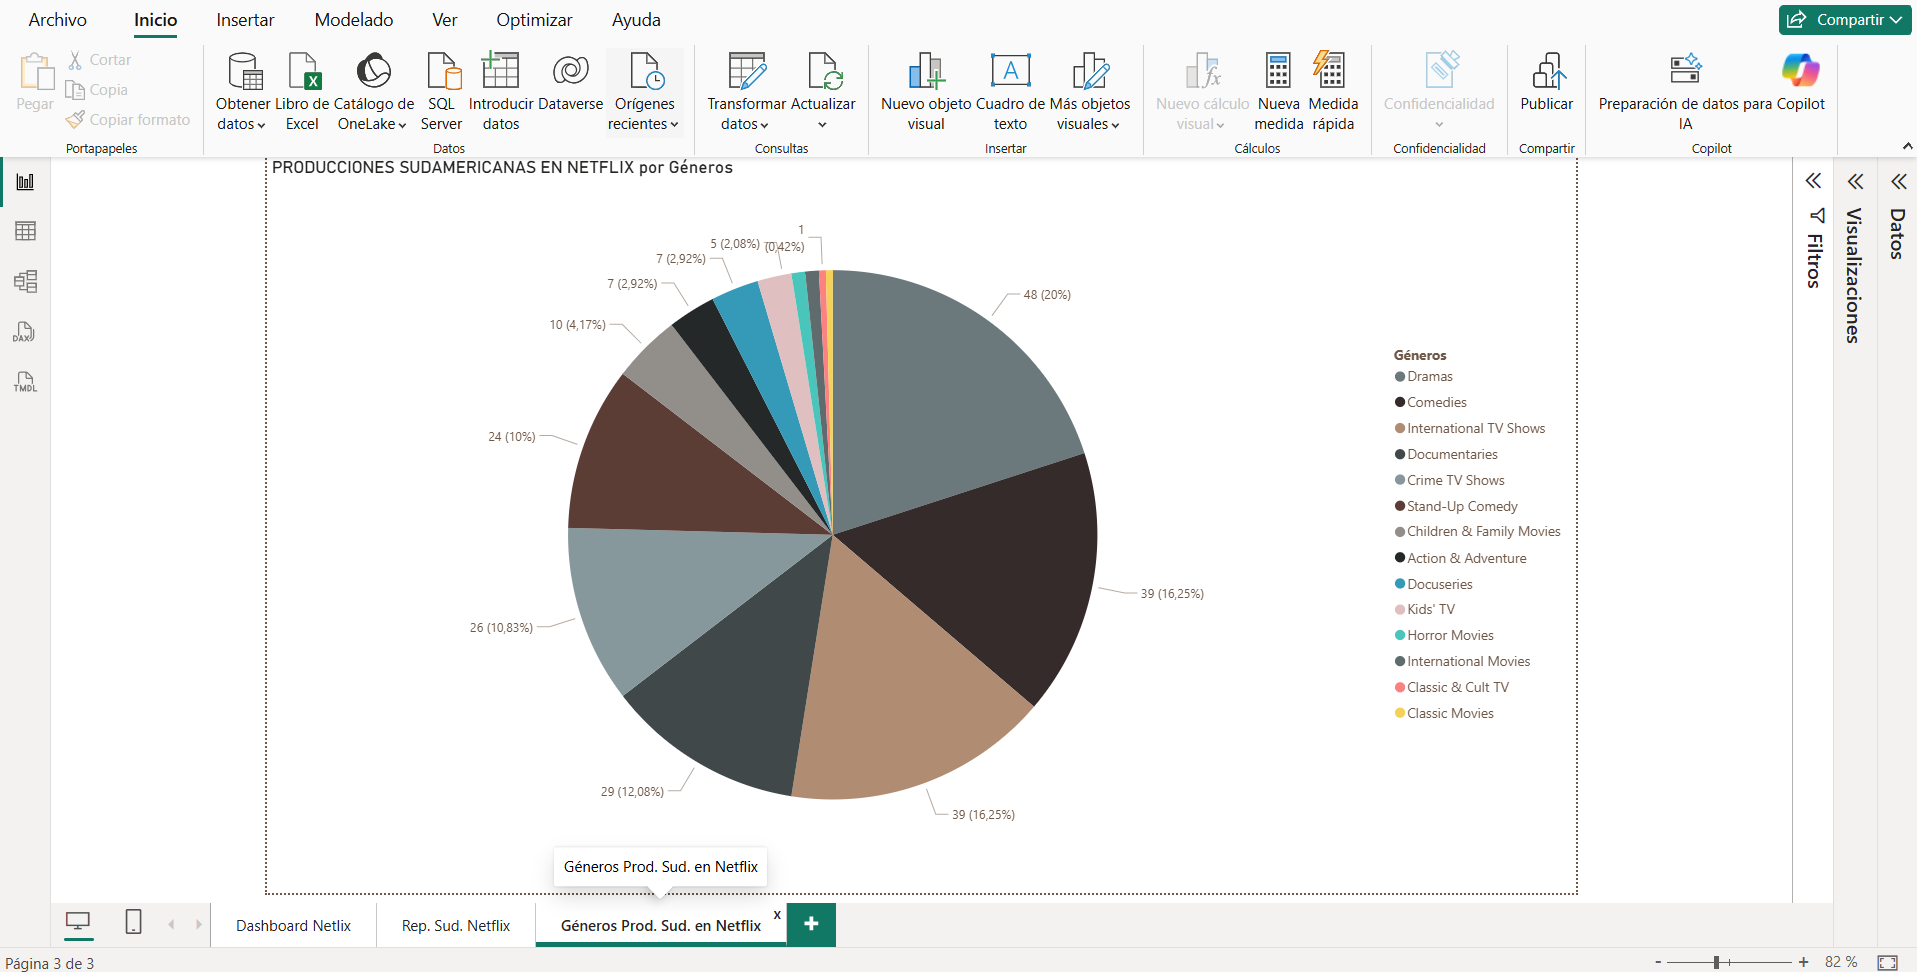

What the dashboard file says about the page in this screenshot:
{"tool":"powerbi","page":{"name":"Géneros Prod. Sud. en Netflix","canvas":[1280,720],"ordinal":2},"visuals":[{"type":"pieChart","fields":{"Category":["netflix_titles.listed_in.1"],"Y":["netflix_titles.PRODUCCIONES SUDAMERICANAS EN NETFLIX"]},"box":[0,0,1280.3,720.4],"z":0}]}

Visuals, with their boxes on the page's 1280x720 design canvas (x1, y1, x2, y2). These are canvas units, not pixel positions in the 1917x972 screenshot, which may show the page scaled, cropped or inside an application window:
pieChart - netflix_titles.listed_in.1 x netflix_titles.PRODUCCIONES SUDAMERICANAS EN NETFLIX: box=[0, 0, 1280, 720]
